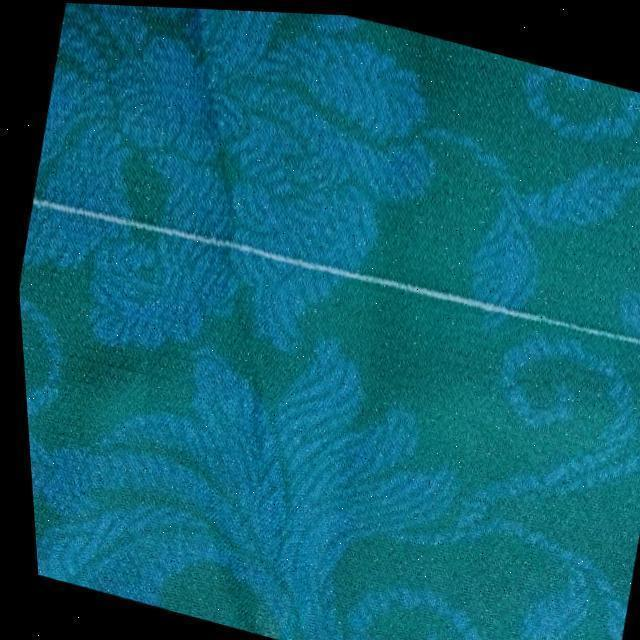pulled_or_thick_thread: (30, 198, 640, 342)
